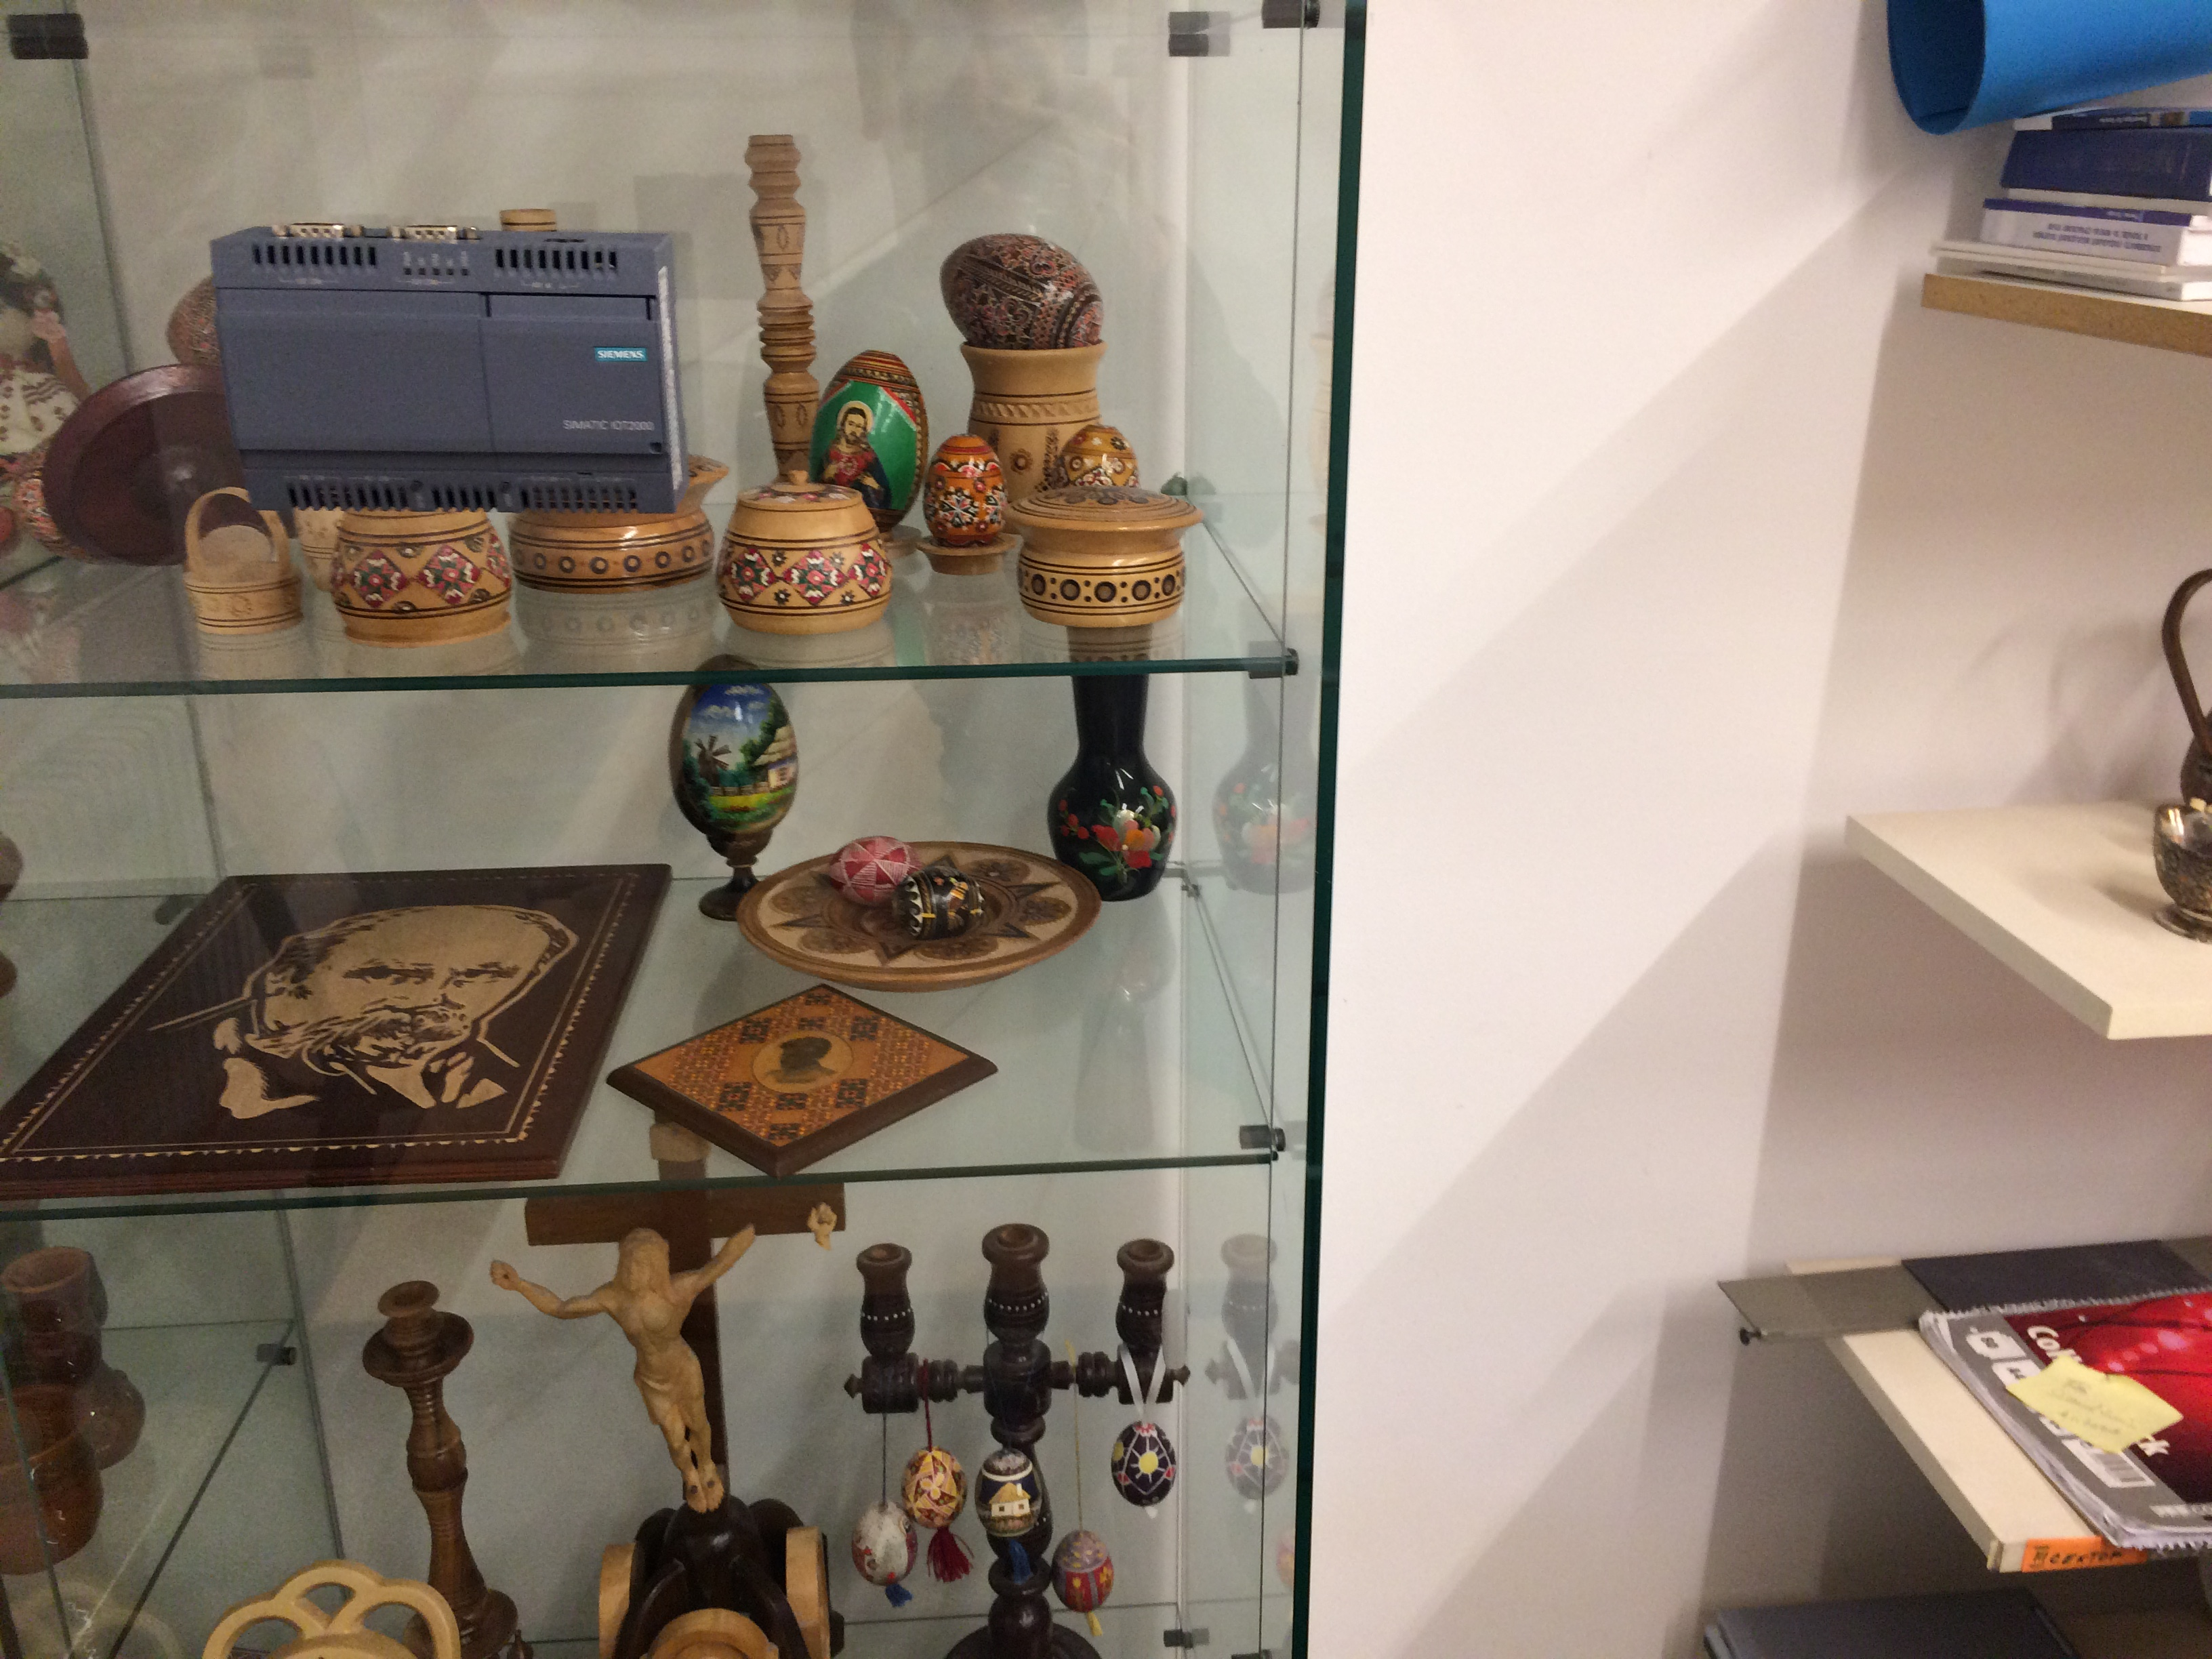iot2000: (206, 218, 690, 518)
